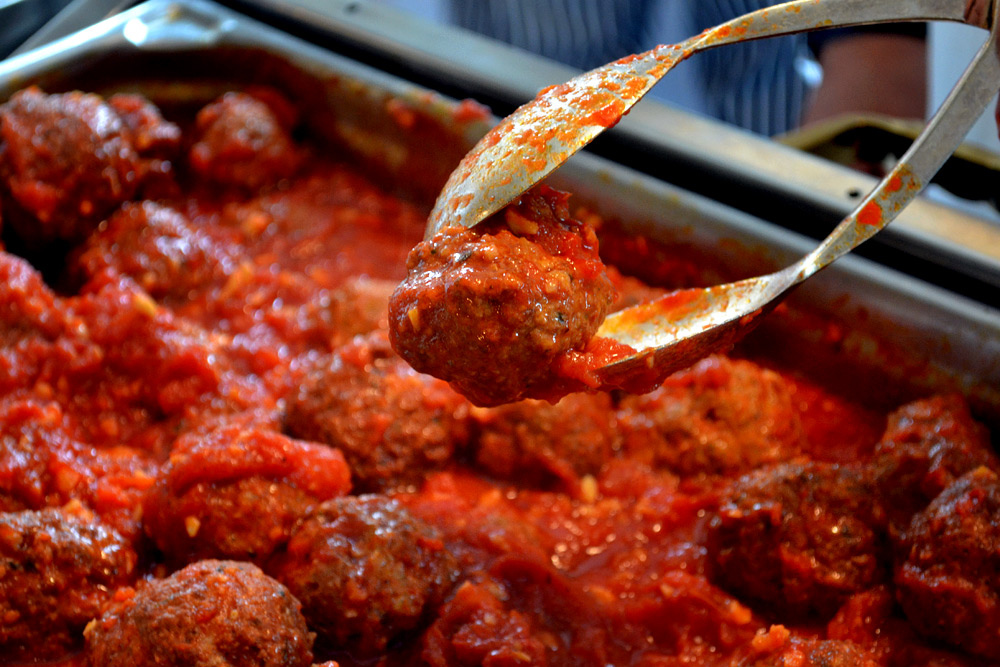meatballs: (129, 408, 462, 667), (742, 362, 1000, 642), (400, 186, 602, 393), (458, 388, 655, 496), (290, 353, 444, 461), (12, 102, 138, 222)
